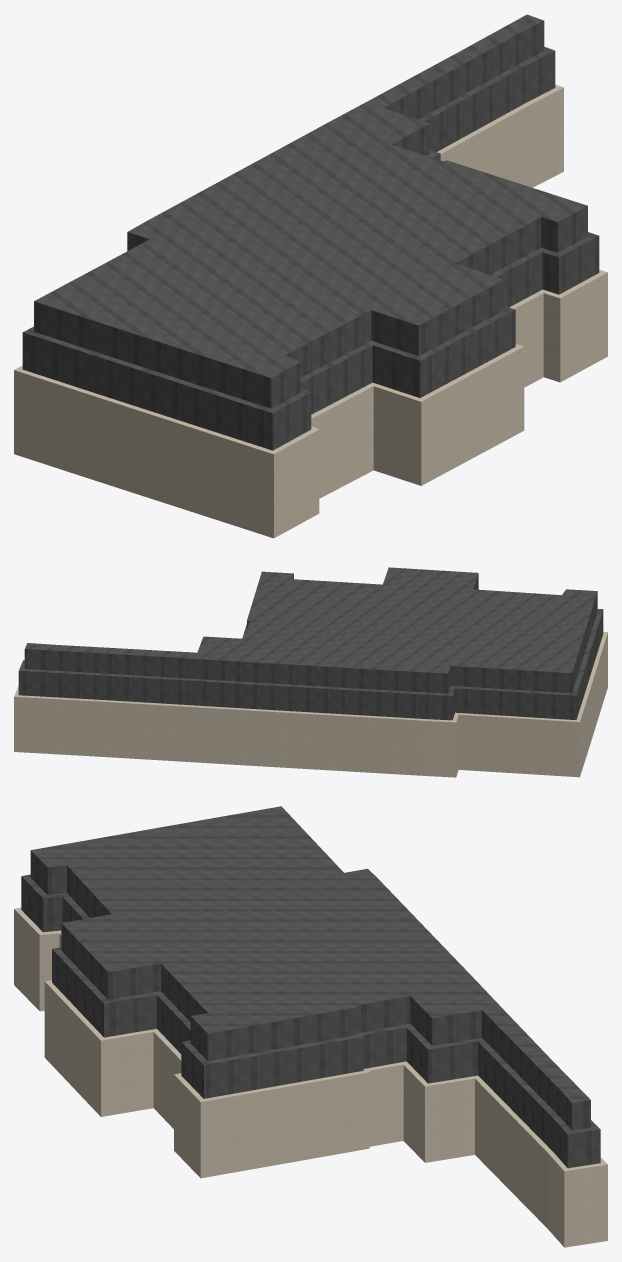
3 views of the same model, one above another, from view 1: azimuth 30°, elevation 25°; view 2: azimuth 150°, elevation 25°; view 3: azimuth 270°, elevation 25° (orthographic). The views are drawn at different scales.
Parts seen in each view (by area): view 1: lmbase_231220414_roof_b, lmbase_231220414, lmbase_231220414_roof_a; view 2: lmbase_231220414_roof_b, lmbase_231220414, lmbase_231220414_roof_a; view 3: lmbase_231220414_roof_b, lmbase_231220414, lmbase_231220414_roof_a.
Part boxes in pixels (box(x1,y1,x2,y2)): lmbase_231220414_roof_b: box(34, 14, 587, 408); lmbase_231220414: box(14, 84, 607, 538); lmbase_231220414_roof_a: box(22, 47, 599, 450); lmbase_231220414_roof_b: box(24, 567, 597, 693); lmbase_231220414: box(14, 632, 607, 777); lmbase_231220414_roof_a: box(18, 609, 603, 720); lmbase_231220414_roof_b: box(30, 806, 590, 1130); lmbase_231220414: box(14, 907, 607, 1247); lmbase_231220414_roof_a: box(21, 874, 600, 1168).
Bounding box in the file's own units: 71.6 × 14.8 × 57.84.
2 materials, 2 textured.
